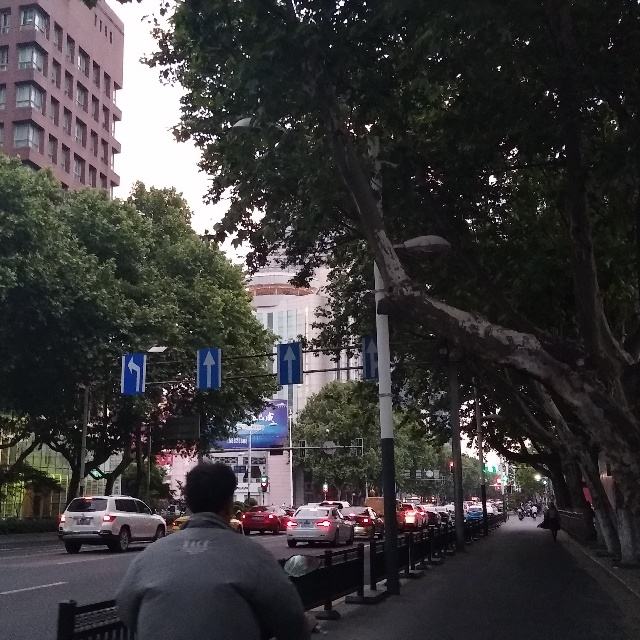left: (120, 354, 145, 394)
straight: (277, 343, 303, 386), (196, 347, 221, 389)
